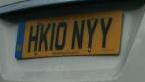H: (28, 24, 39, 52)
I: (49, 21, 55, 52)
K: (39, 22, 51, 52)
N: (71, 19, 85, 51)
O: (55, 20, 66, 50)
Y: (86, 18, 99, 50), (100, 17, 112, 49)
